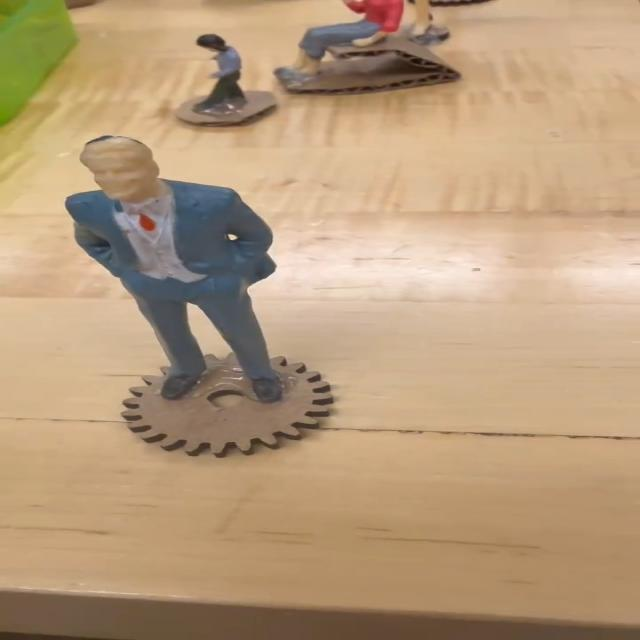Authorized: (24, 128, 309, 410)
